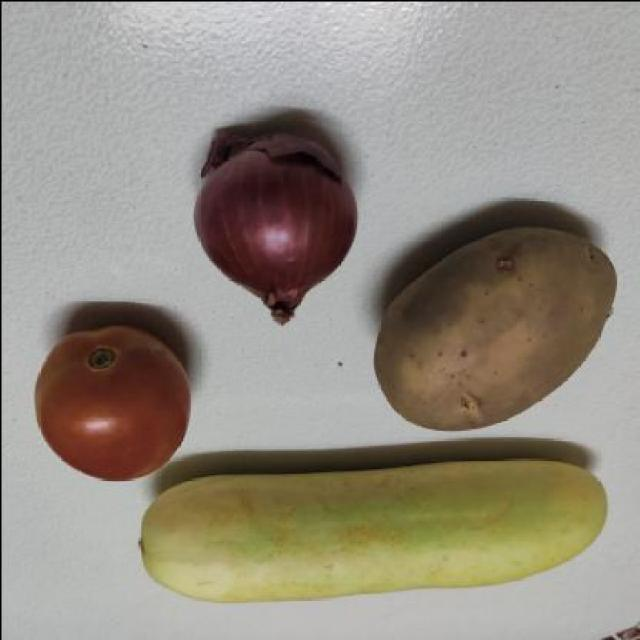Onion: (189, 120, 360, 331)
Potato: (367, 195, 640, 436)
Tomato: (30, 312, 198, 488)
cucumber: (128, 455, 620, 611)
